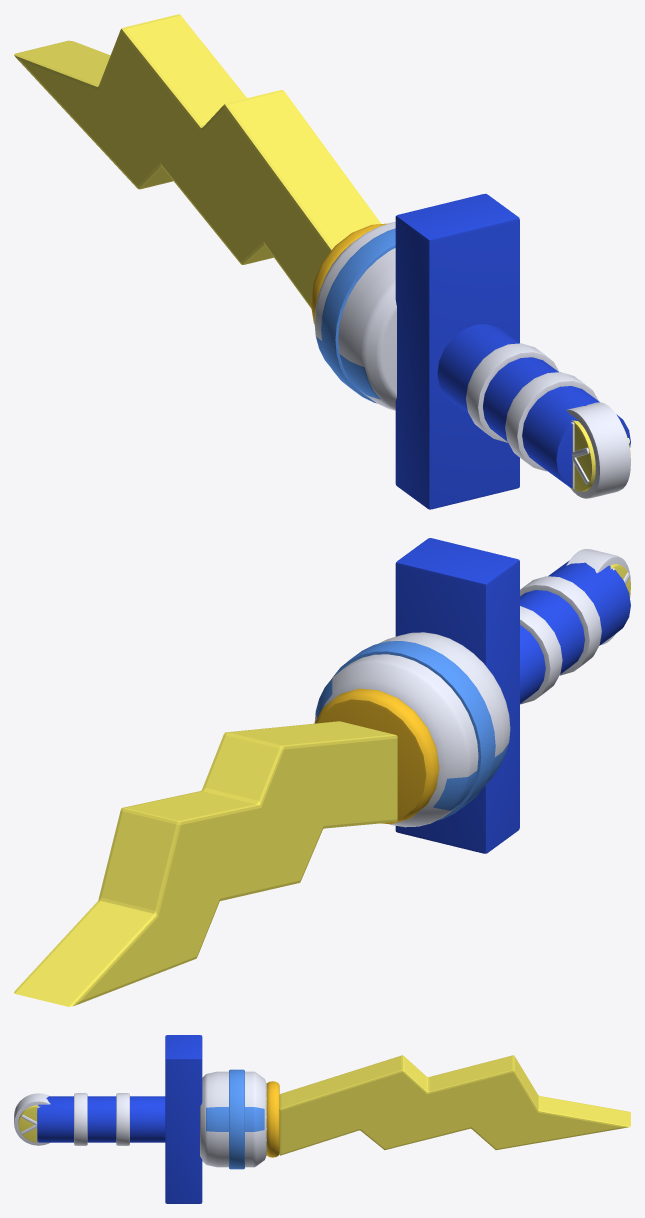
Rendered from Sword_BottledLightning.glb.
The picture shows the model from 3 angles, top to bottom: view 1: azimuth 30°, elevation 25°; view 2: azimuth 150°, elevation 25°; view 3: azimuth 270°, elevation 25°; orthographic projection. The views are drawn at different scales.
Parts seen in each view (by area): view 1: Sword_BottledLightning; view 2: Sword_BottledLightning; view 3: Sword_BottledLightning.
Part boxes in pixels (x1,y1,x2,y2): Sword_BottledLightning: (14,14,630,509); Sword_BottledLightning: (14,538,630,1006); Sword_BottledLightning: (14,1035,630,1203).
Bounding box in the file's own units: 0.1622 × 0.2603 × 1.
Materials: 1 (1 with a texture image).
